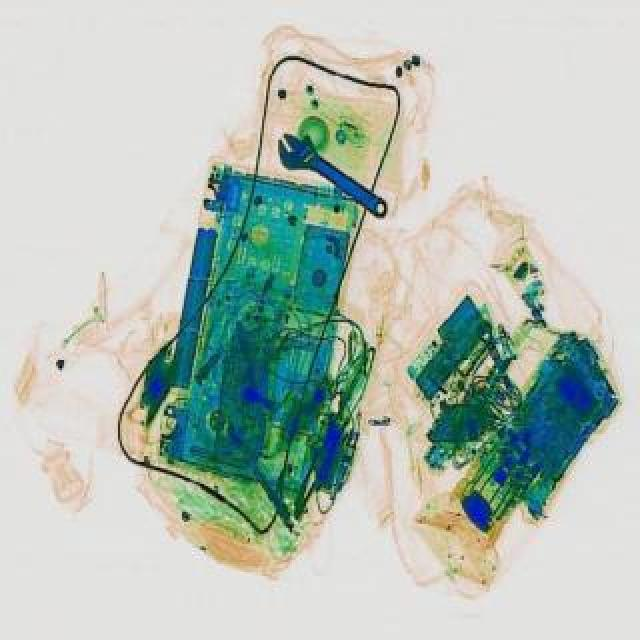scissors: (264, 124, 394, 230)
